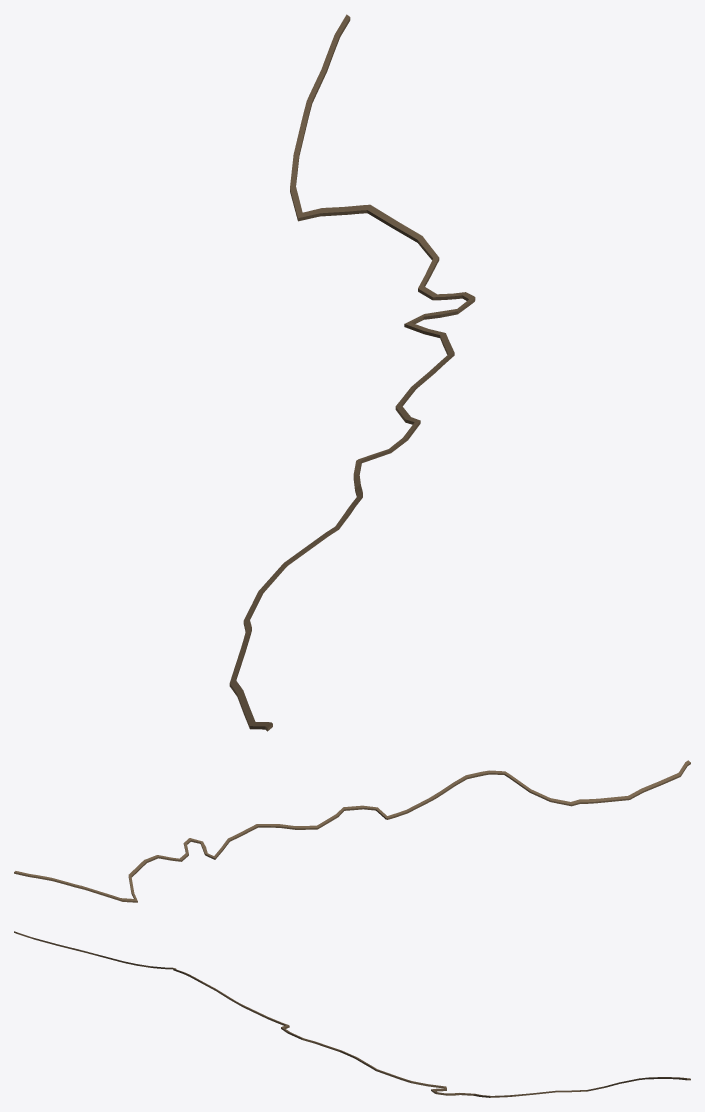
3 views of the same model, one above another, from view 1: azimuth 30°, elevation 25°; view 2: azimuth 150°, elevation 25°; view 3: azimuth 270°, elevation 25° (orthographic). The views are drawn at different scales.
Size of the model in its own units: 166 by 22.67 by 256.
